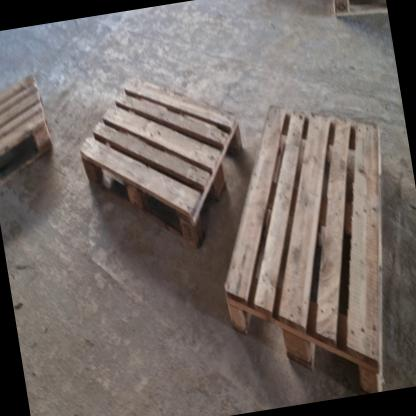BoxFace: (222, 104, 382, 393), (77, 74, 244, 250), (0, 74, 54, 189), (331, 0, 388, 17)
